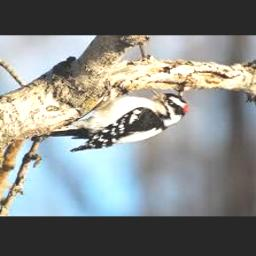Woodpecker: (40, 88, 187, 152)
